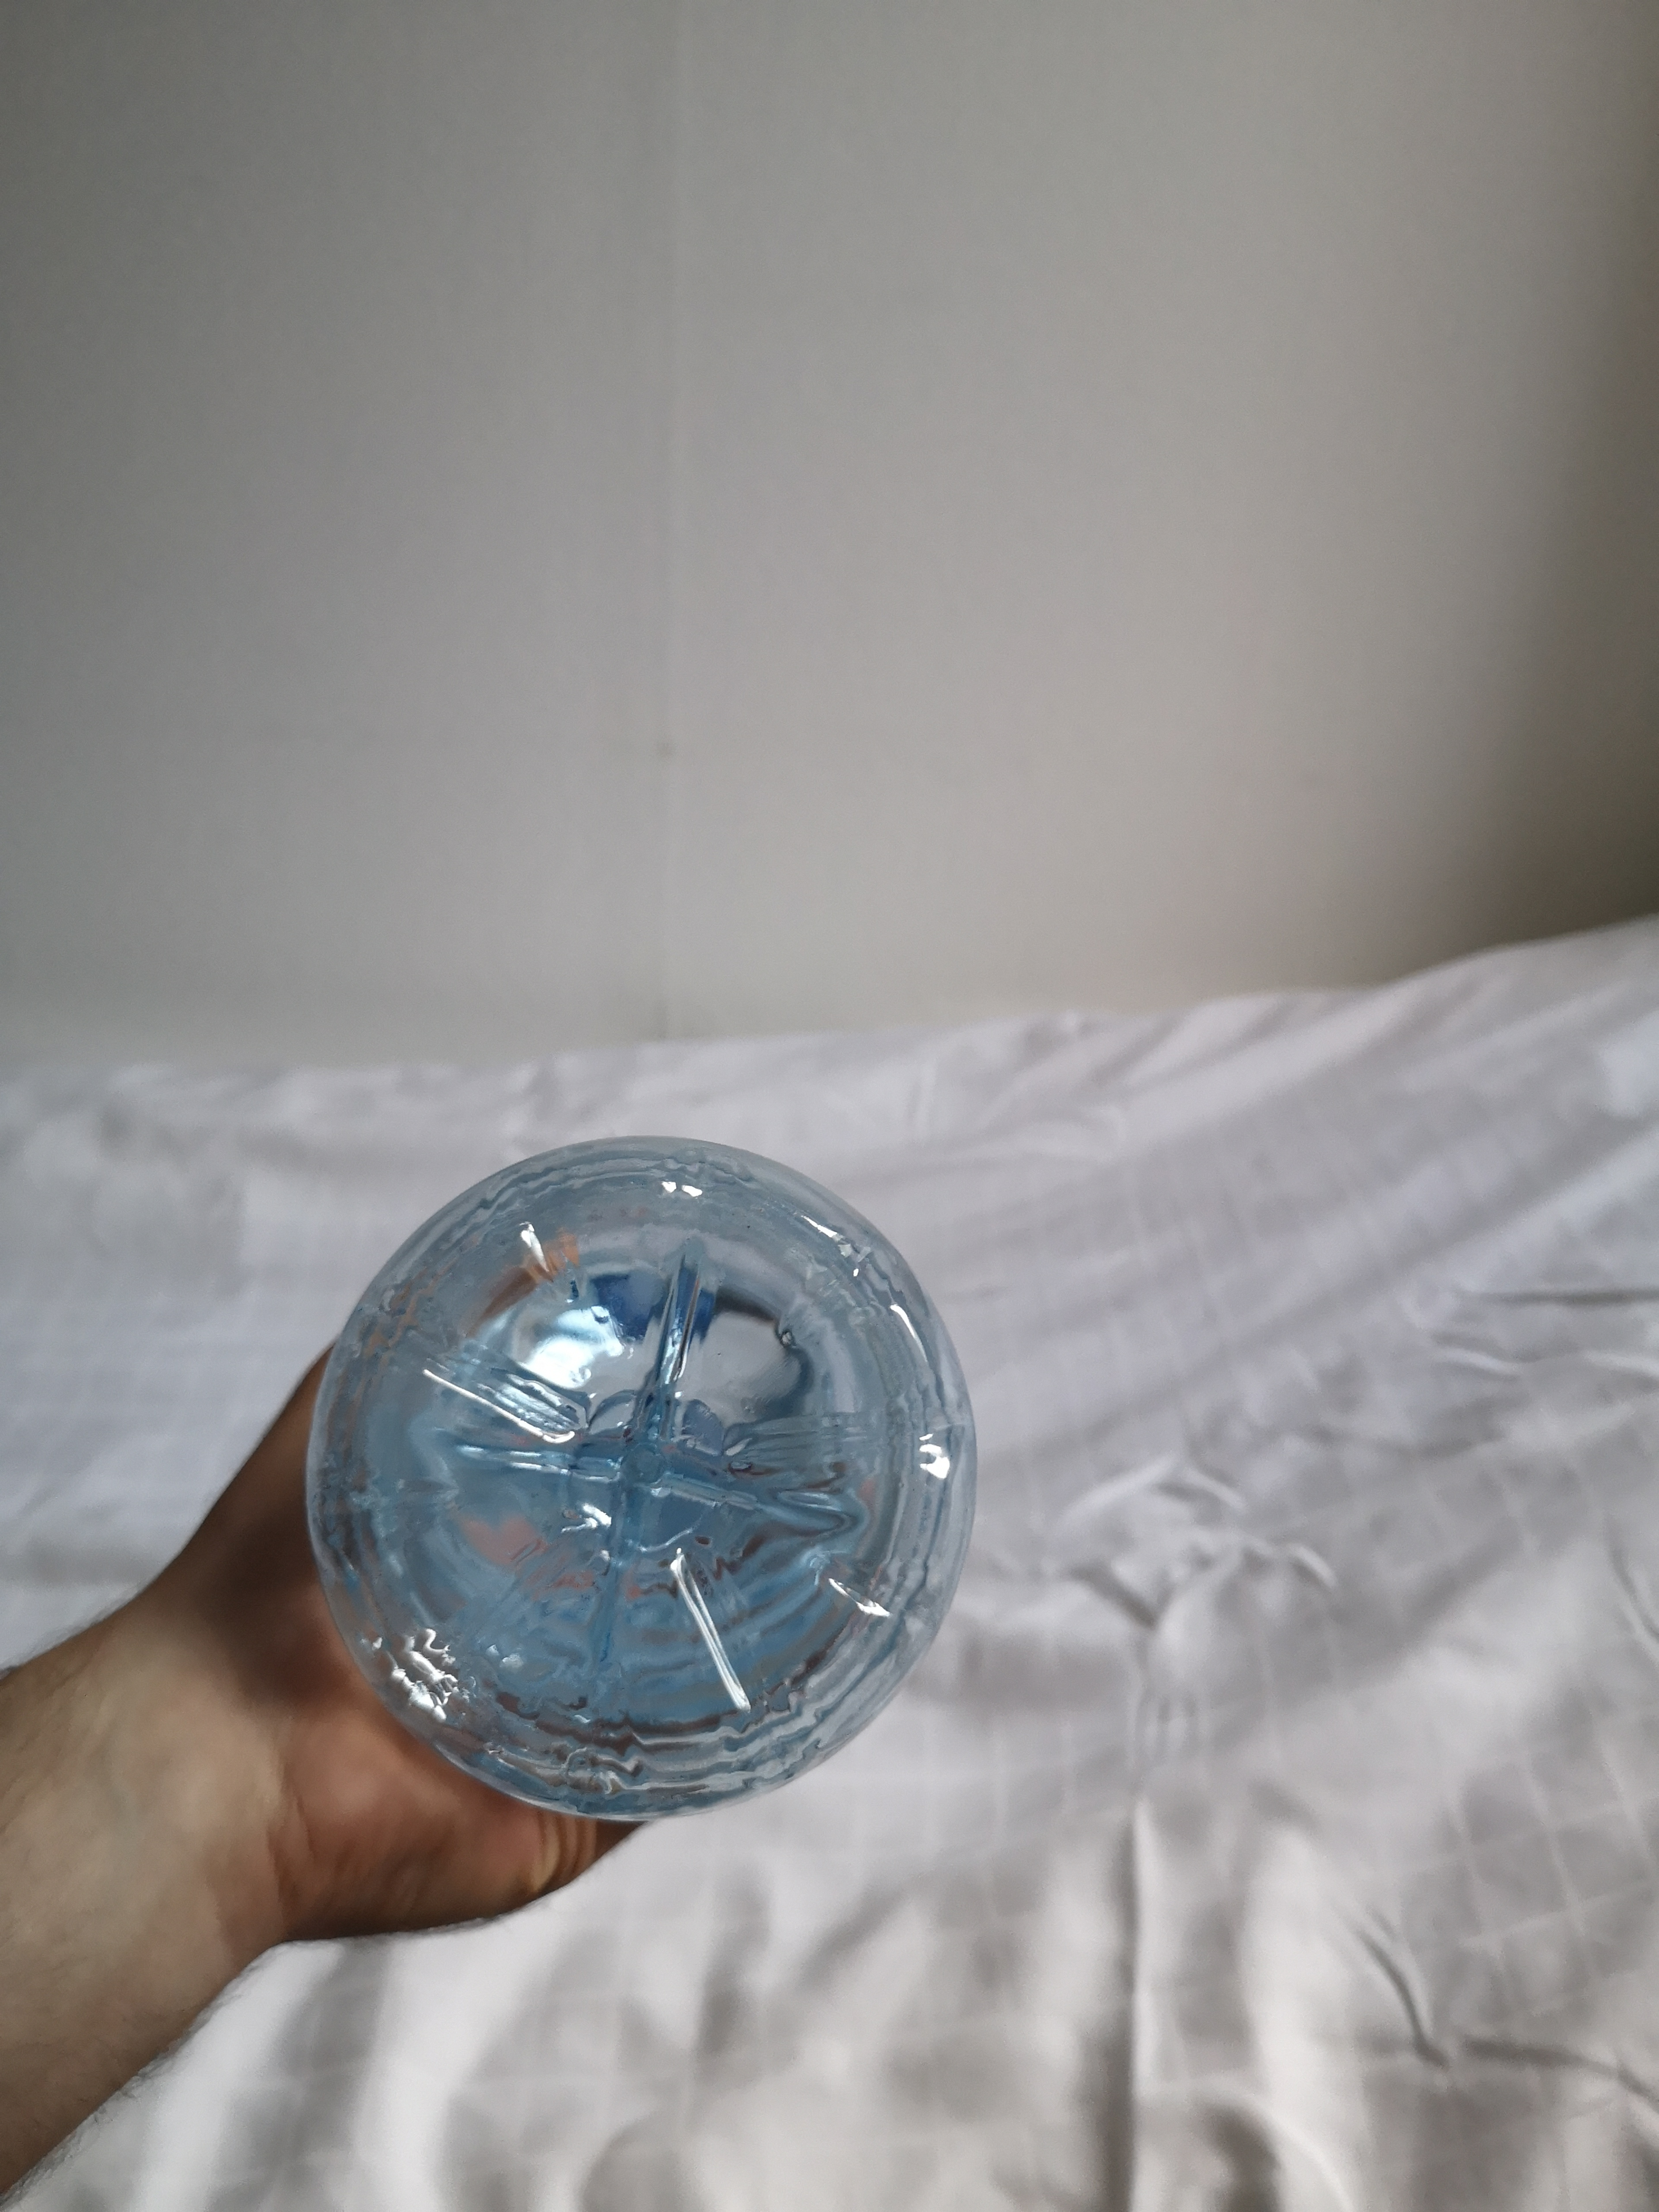plastic_bottle: (289, 1104, 1009, 1838)
